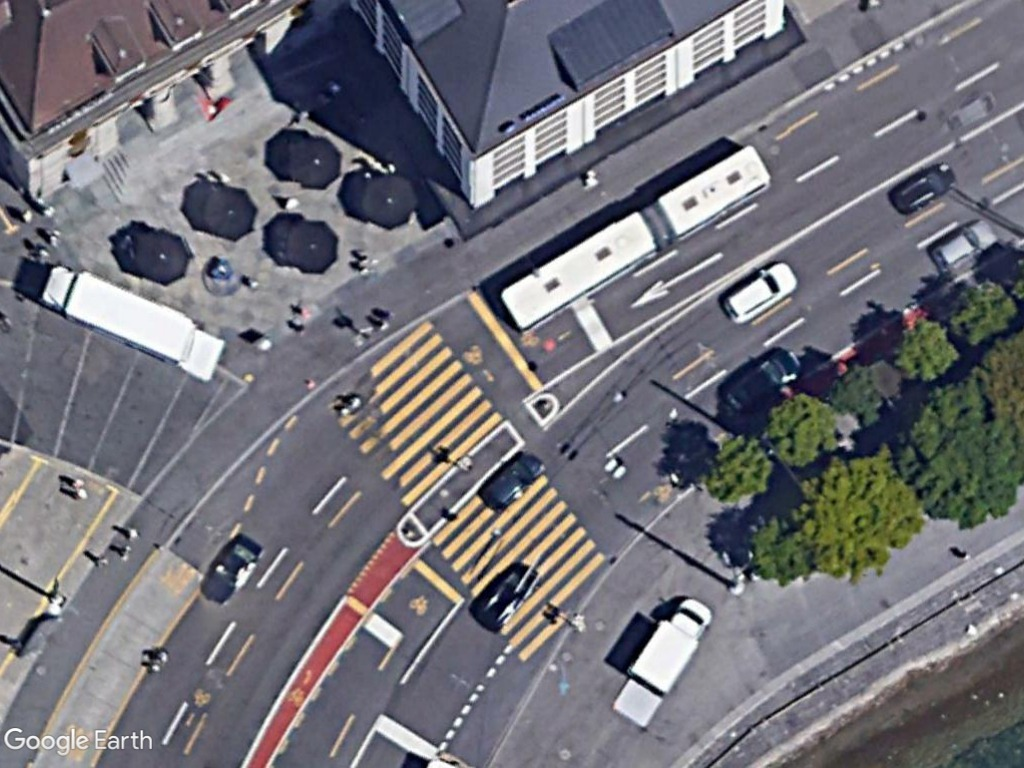bus: (493, 210, 660, 332), (653, 141, 777, 240)
car: (719, 260, 800, 323), (929, 220, 1000, 275)
truck: (36, 259, 192, 361), (628, 597, 716, 695)
